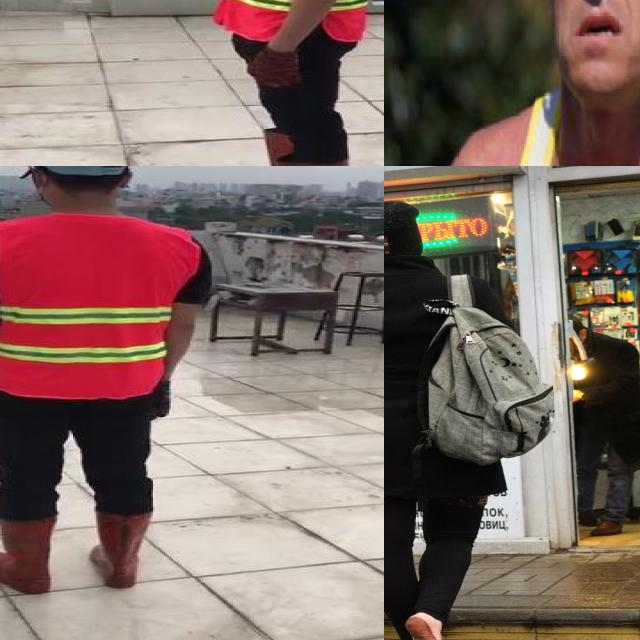Barefoots: (405, 613, 453, 640)
boots: (89, 510, 157, 590), (0, 517, 57, 596), (215, 124, 322, 166)
face_nomask: (539, 0, 640, 52)
hand_glove: (246, 50, 300, 87), (146, 384, 171, 420)
person: (0, 166, 214, 610), (439, 0, 640, 166), (200, 0, 381, 166)
vest: (0, 214, 195, 398), (217, 0, 375, 44)
